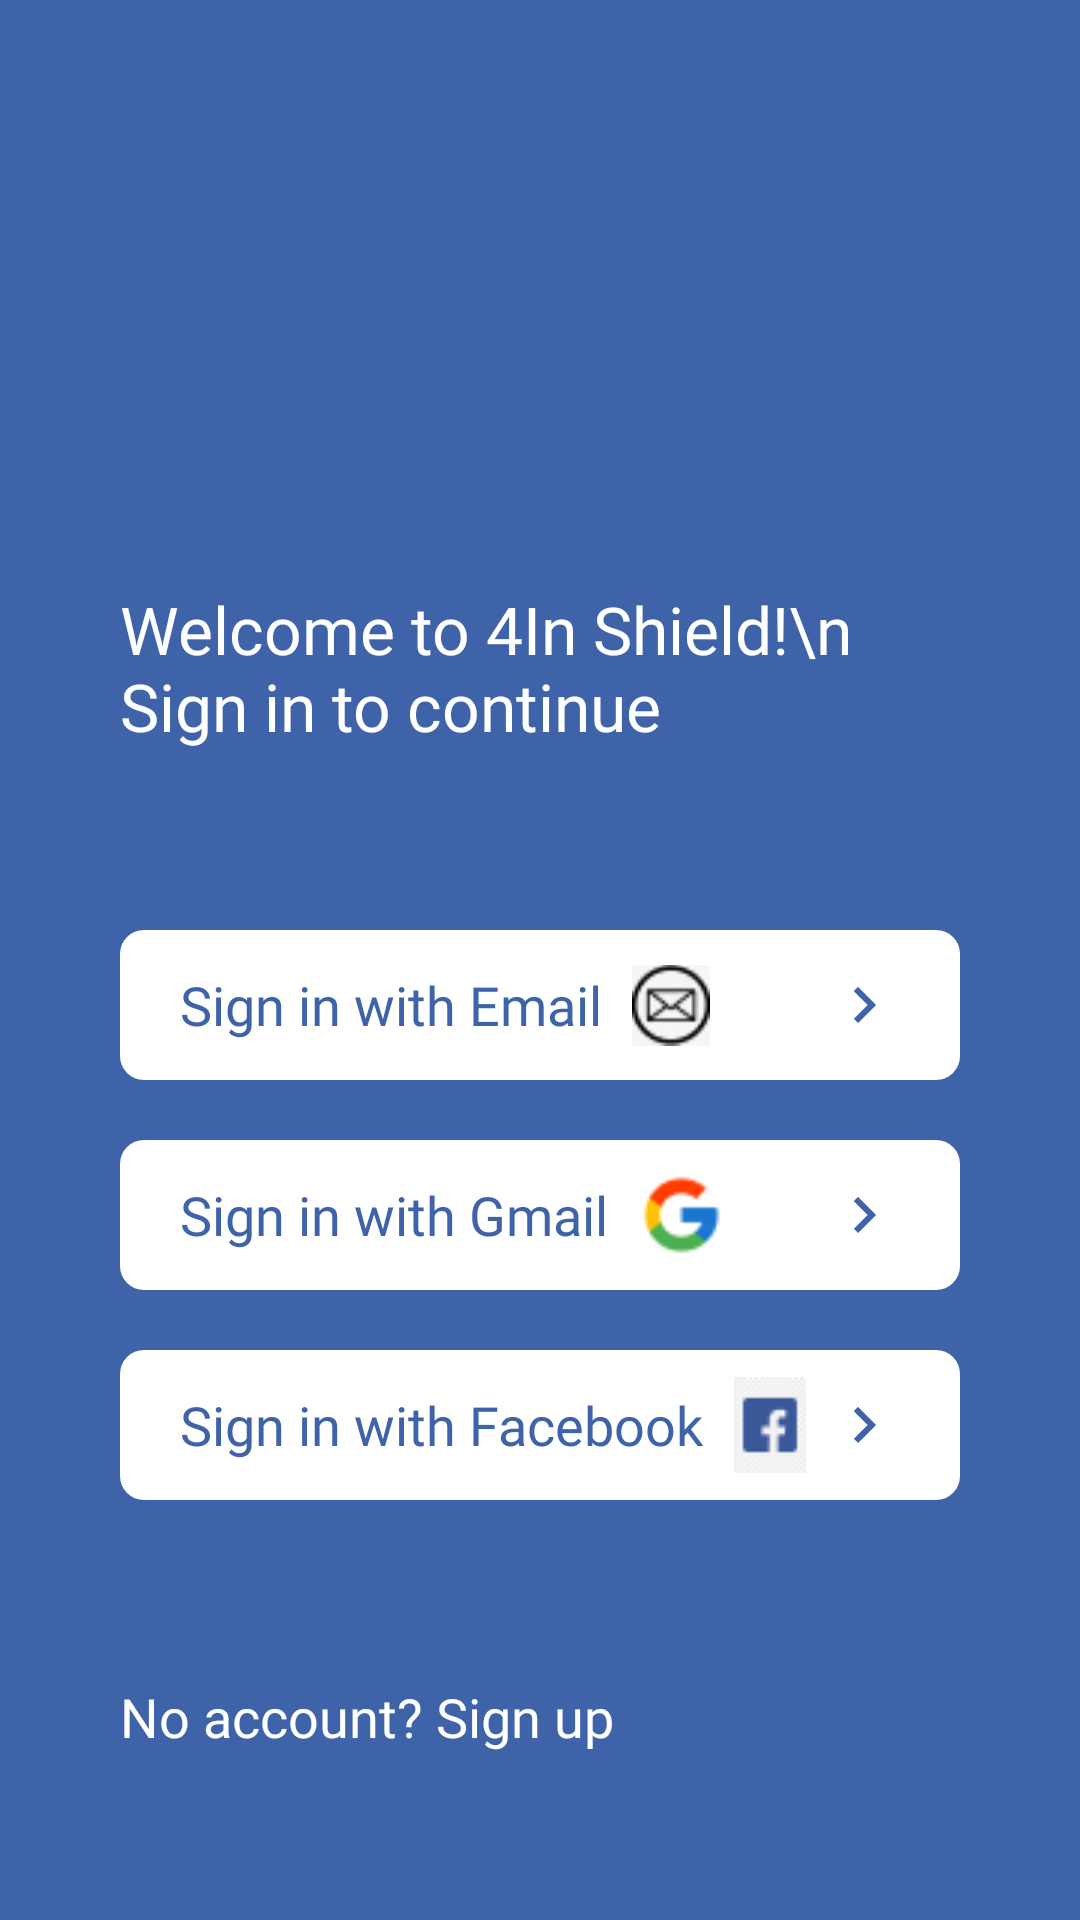

Where icons sit on this 1080px×1920px app screen, as [x1,y1,x2,y2]:
arrow right: [854,987,876,1023], [854,1197,876,1233], [854,1407,876,1443]
